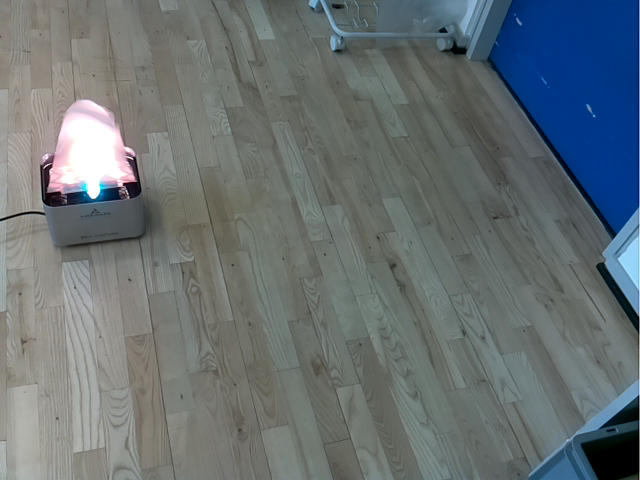fire: (45, 99, 138, 196)
